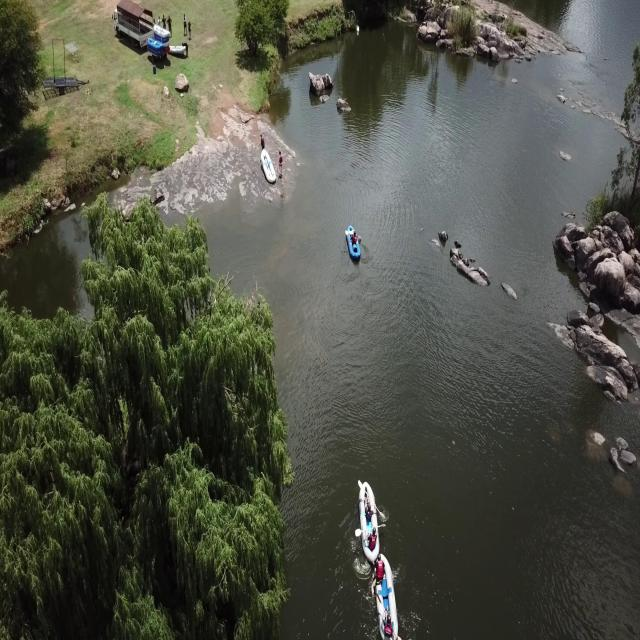kayak: (370, 550, 400, 640), (355, 481, 387, 564), (345, 225, 363, 265)
